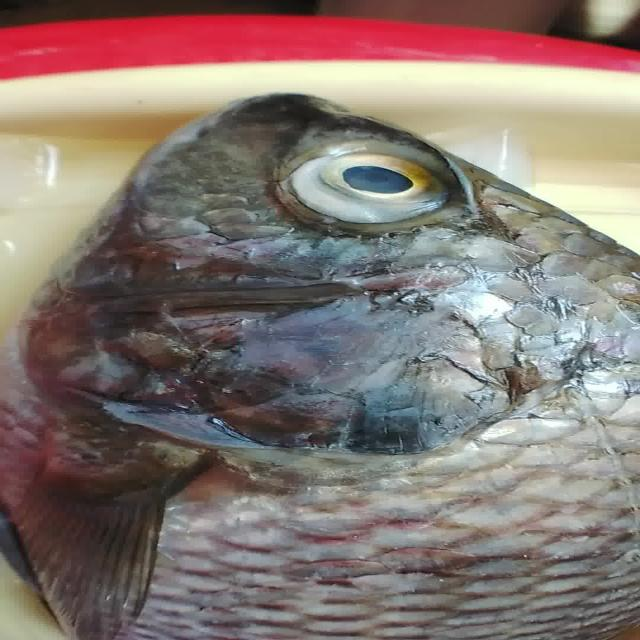Fresh: (41, 330, 640, 640), (322, 123, 480, 248)
